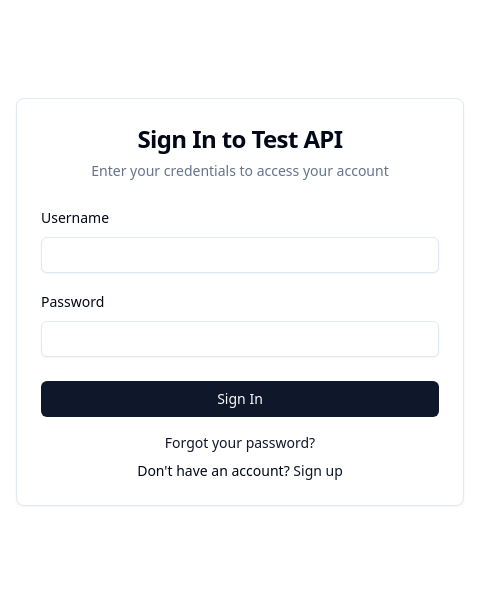
Scenario: LoginPage › disables TOTP verify button when code is incomplete
Fill in username and password and trigger TOTP
Type "testuser" into the field labelled "Username".
click(240, 255); type("testuser")  # box [41,237,439,273]
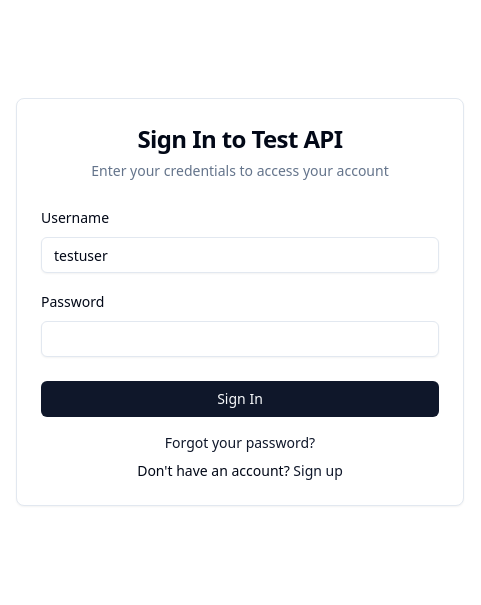
Type "password123" into the password field labelled "Password".
click(240, 339); type("password123")  # box [41,321,439,357]
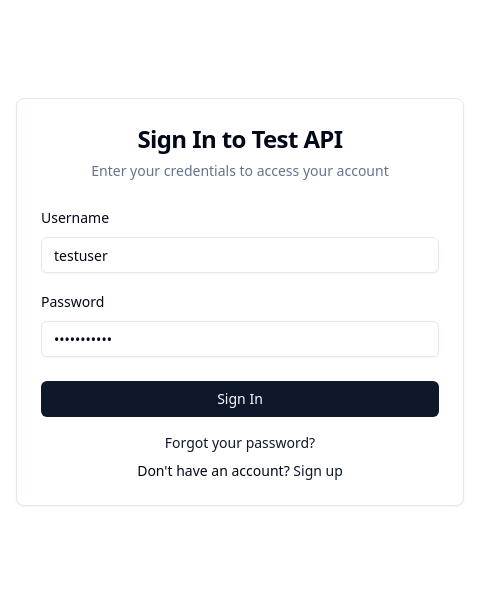
Click the button "Sign In".
click(240, 399)  # box [41,381,439,417]
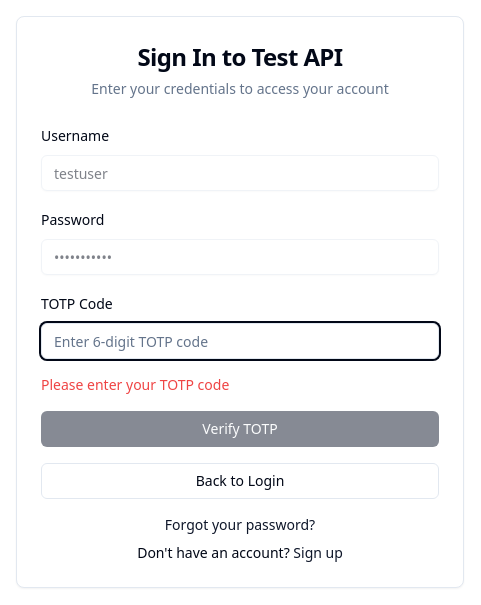
Result: the field with placeholder "Enter 6-digit TOTP code" is shown
Result: the button "Verify TOTP" is disabled at [41,411,439,447]
Enter incomplete TOTP code
Type "12345" into the field with placeholder "Enter 6-digit TOTP code".
click(240, 341); type("12345")  # box [41,323,439,359]
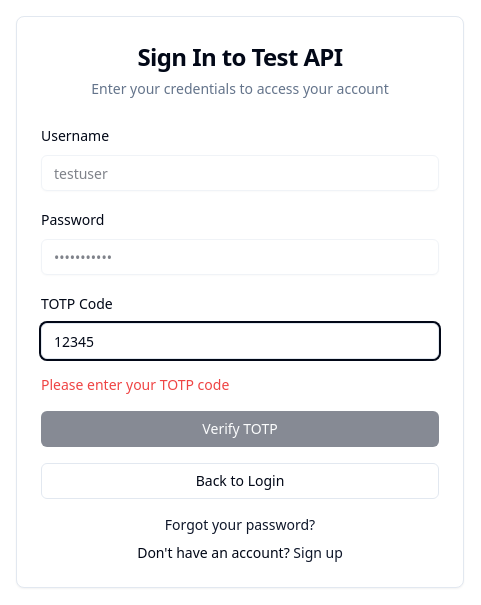
Result: the button "Verify TOTP" is disabled at [41,411,439,447]
Enter complete TOTP code
Replace the text in the field with placeholder "Enter 6-digit TOTP code" with "123456" at (240, 341), box [41,323,439,359]
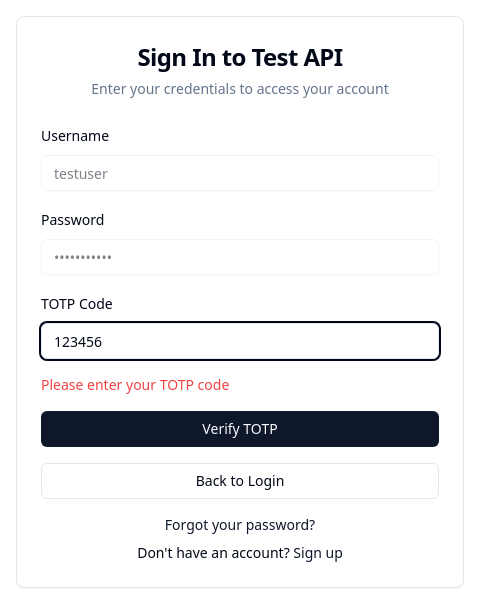
Result: the button "Verify TOTP" is enabled at [41,411,439,447]
